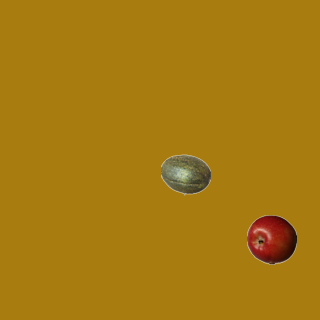Apple Braeburn: (246, 214, 296, 264)
Melon Piel de Sapo: (160, 149, 210, 199)
